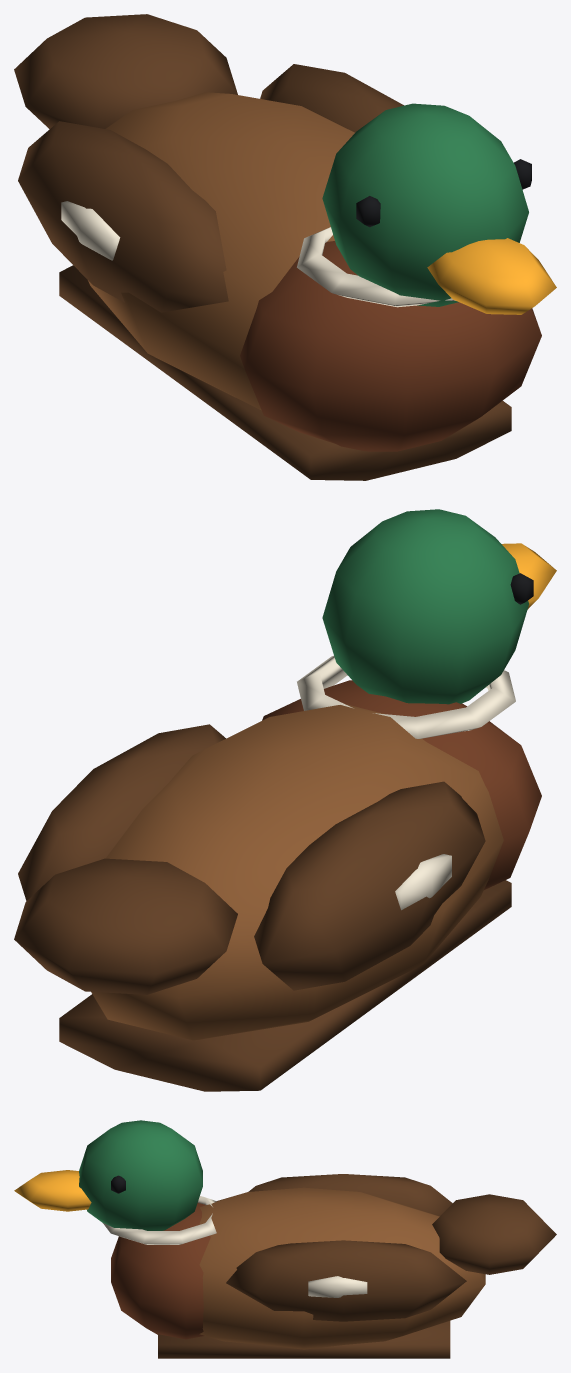
Rendered from decoy.glb.
The picture shows the model from 3 angles, top to bottom: view 1: azimuth 30°, elevation 25°; view 2: azimuth 150°, elevation 25°; view 3: azimuth 270°, elevation 25°; orthographic projection. The views are drawn at different scales.
Visible parts, largest first — view 1: LOD0; view 2: LOD0; view 3: LOD0.
Boxes of the visible parts, x1=… form: LOD0: x1=14, y1=14, x2=556, y2=480; LOD0: x1=14, y1=509, x2=556, y2=1091; LOD0: x1=14, y1=1120, x2=556, y2=1358.
Size of what is drawn, in the model's own units: 0.21 by 0.21 by 0.483.
1 material, 1 textured.
